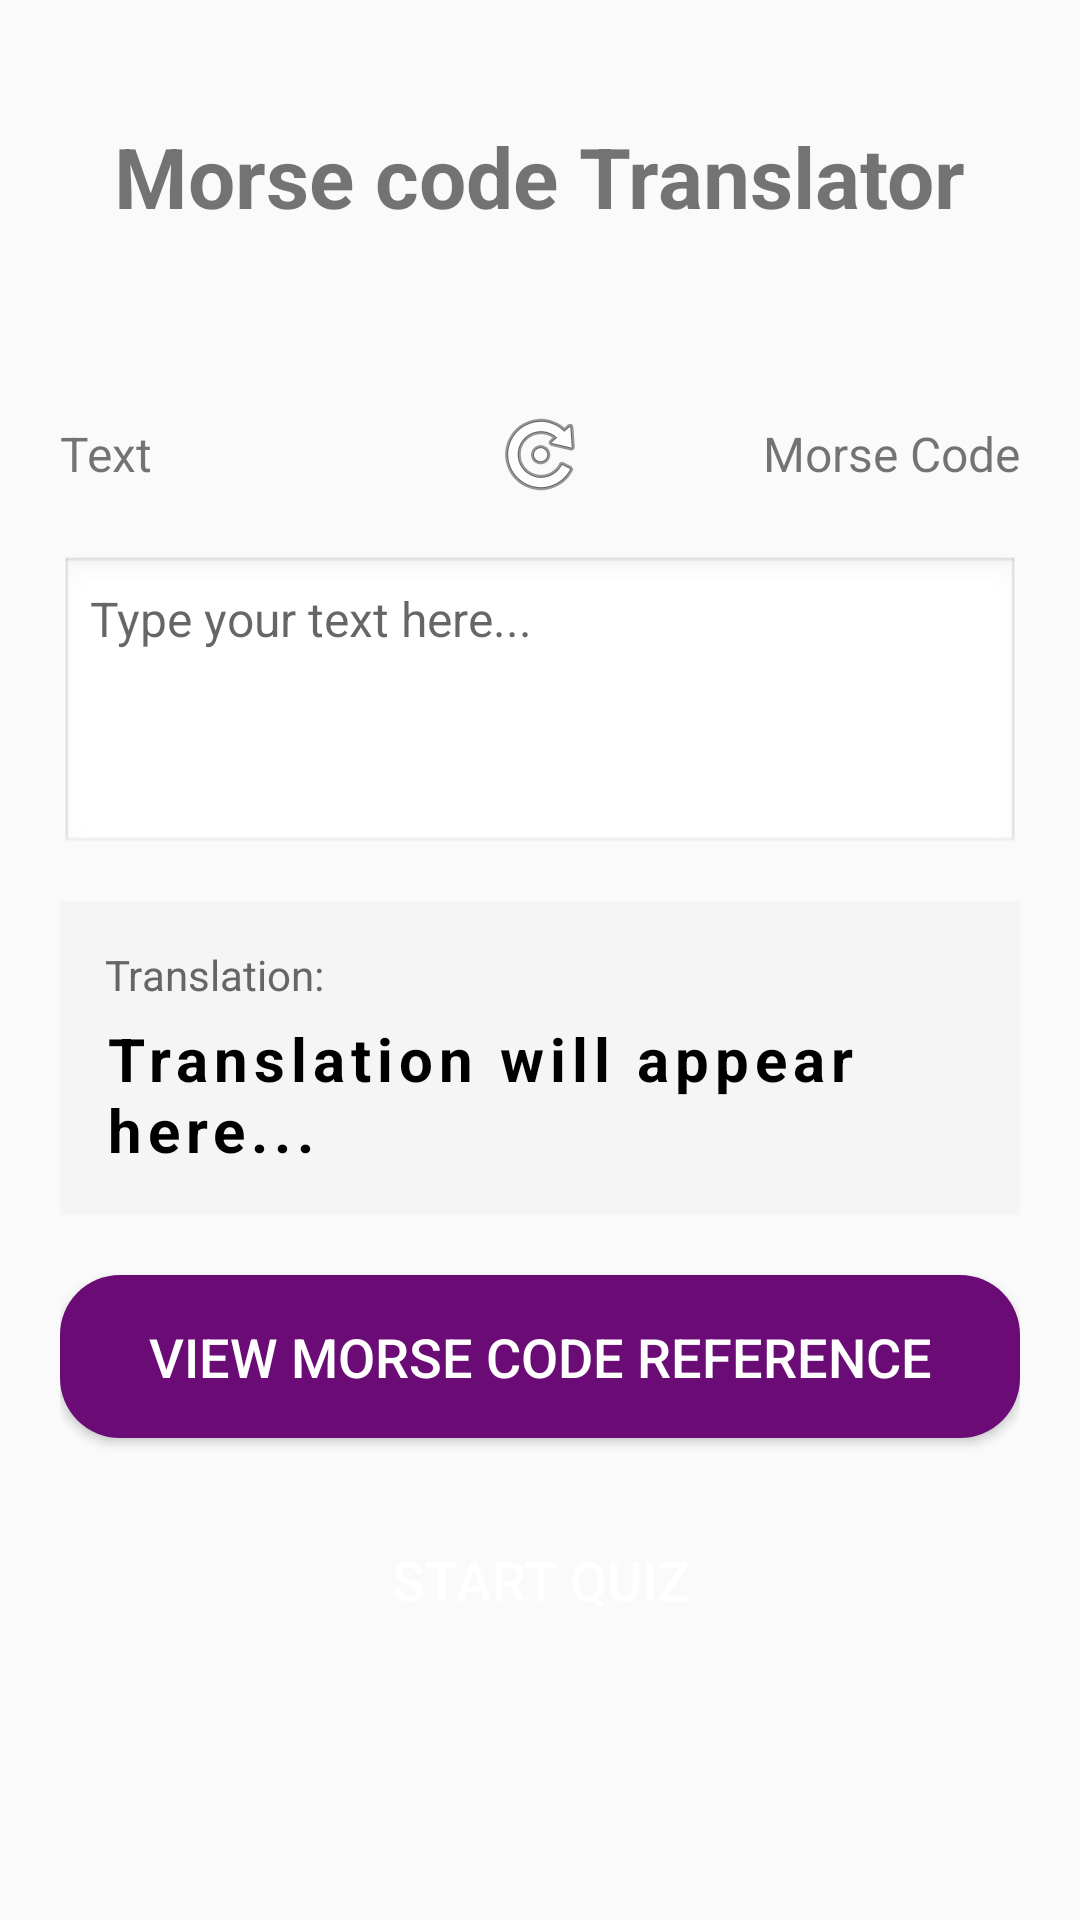

Named icons in this screenshot (1080px x 1920px) and their centers, (x=x, y=y):
rotate: (x=540, y=454)
